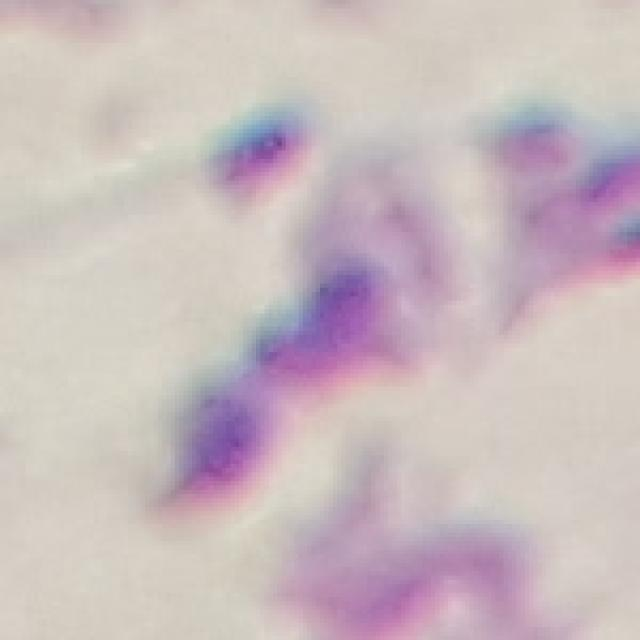non-sperm: (143, 234, 414, 496)
